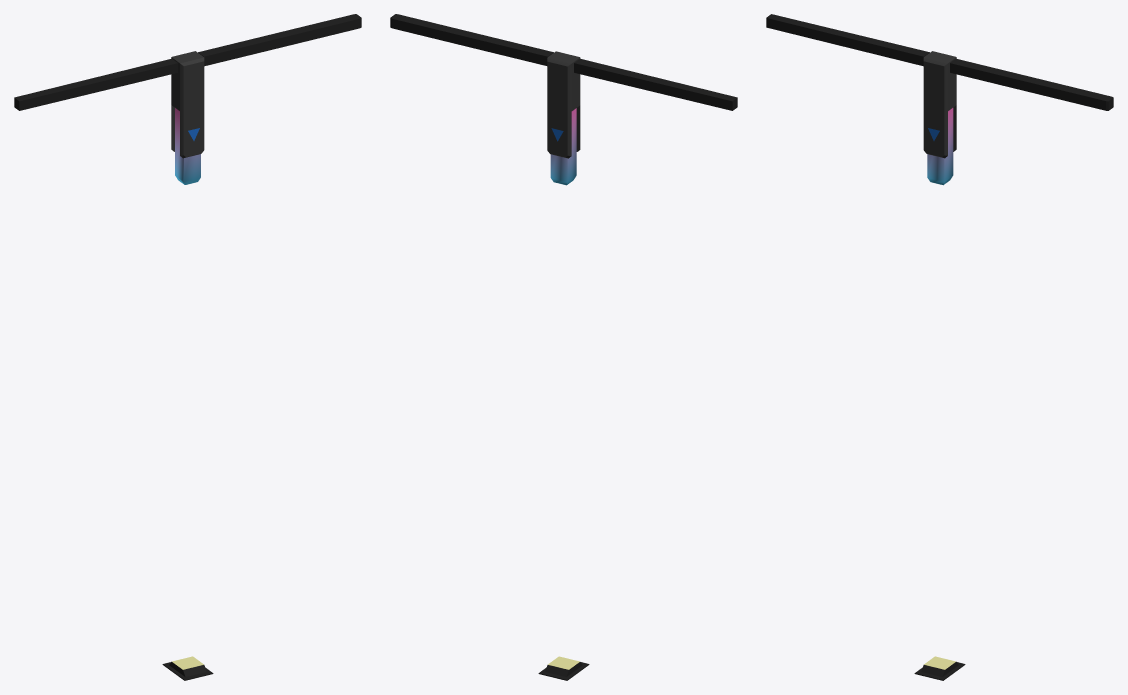
File: W_AD_Streetlamp_a_001_L1.fbx
3 views of the same model, side by side, from view 1: azimuth 30°, elevation 25°; view 2: azimuth 150°, elevation 25°; view 3: azimuth 330°, elevation 25° (orthographic).
Visible parts, largest first — view 1: W_O_Streetlamp_004_a_L1; view 2: W_O_Streetlamp_004_a_L1; view 3: W_O_Streetlamp_004_a_L1.
Part boxes in pixels (x1,y1,x2,y2): W_O_Streetlamp_004_a_L1: [14, 14, 361, 680]; W_O_Streetlamp_004_a_L1: [390, 14, 737, 680]; W_O_Streetlamp_004_a_L1: [766, 14, 1113, 680].
Bounding box in the file's own units: 2.71 × 4.63 × 0.3007.
